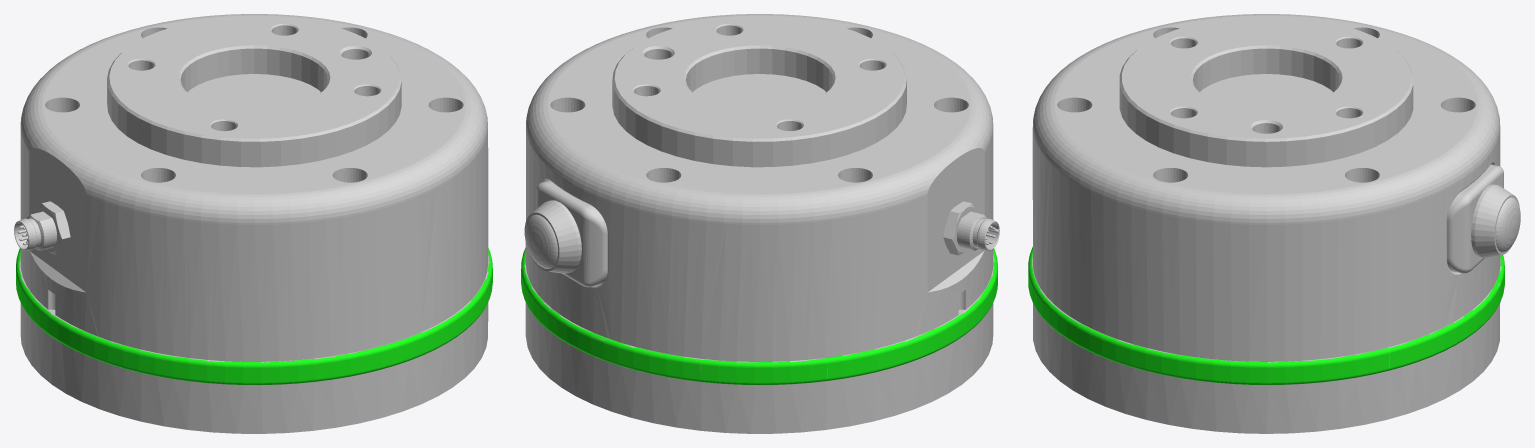
The model's file is symphony15_6_w.dae.
3 views of the same model, side by side, from view 1: azimuth 30°, elevation 25°; view 2: azimuth 150°, elevation 25°; view 3: azimuth 270°, elevation 25° (orthographic).
Visible parts, largest first — view 1: link6; view 2: link6; view 3: link6.
Part boxes in pixels (bbox=[...]): link6: bbox=[14, 14, 492, 433]; link6: bbox=[521, 14, 999, 433]; link6: bbox=[1028, 14, 1520, 433].
Size of the model in its own units: 0.1085 by 0.1054 by 0.0608.
